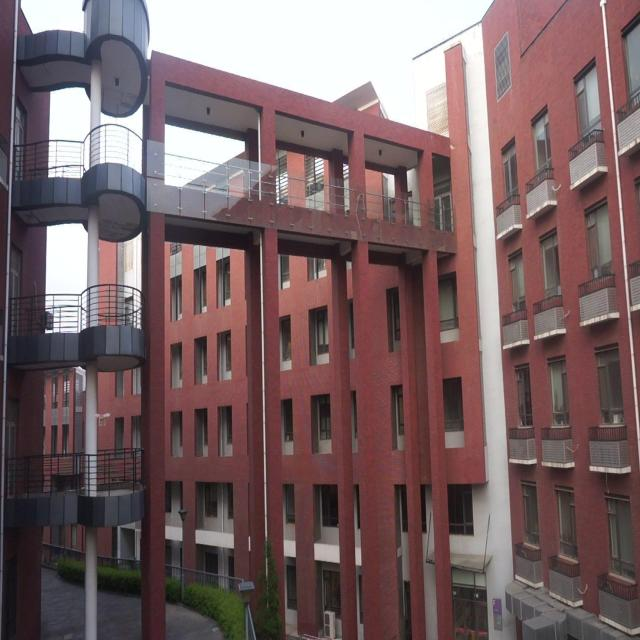drone: (94, 410, 110, 430)
